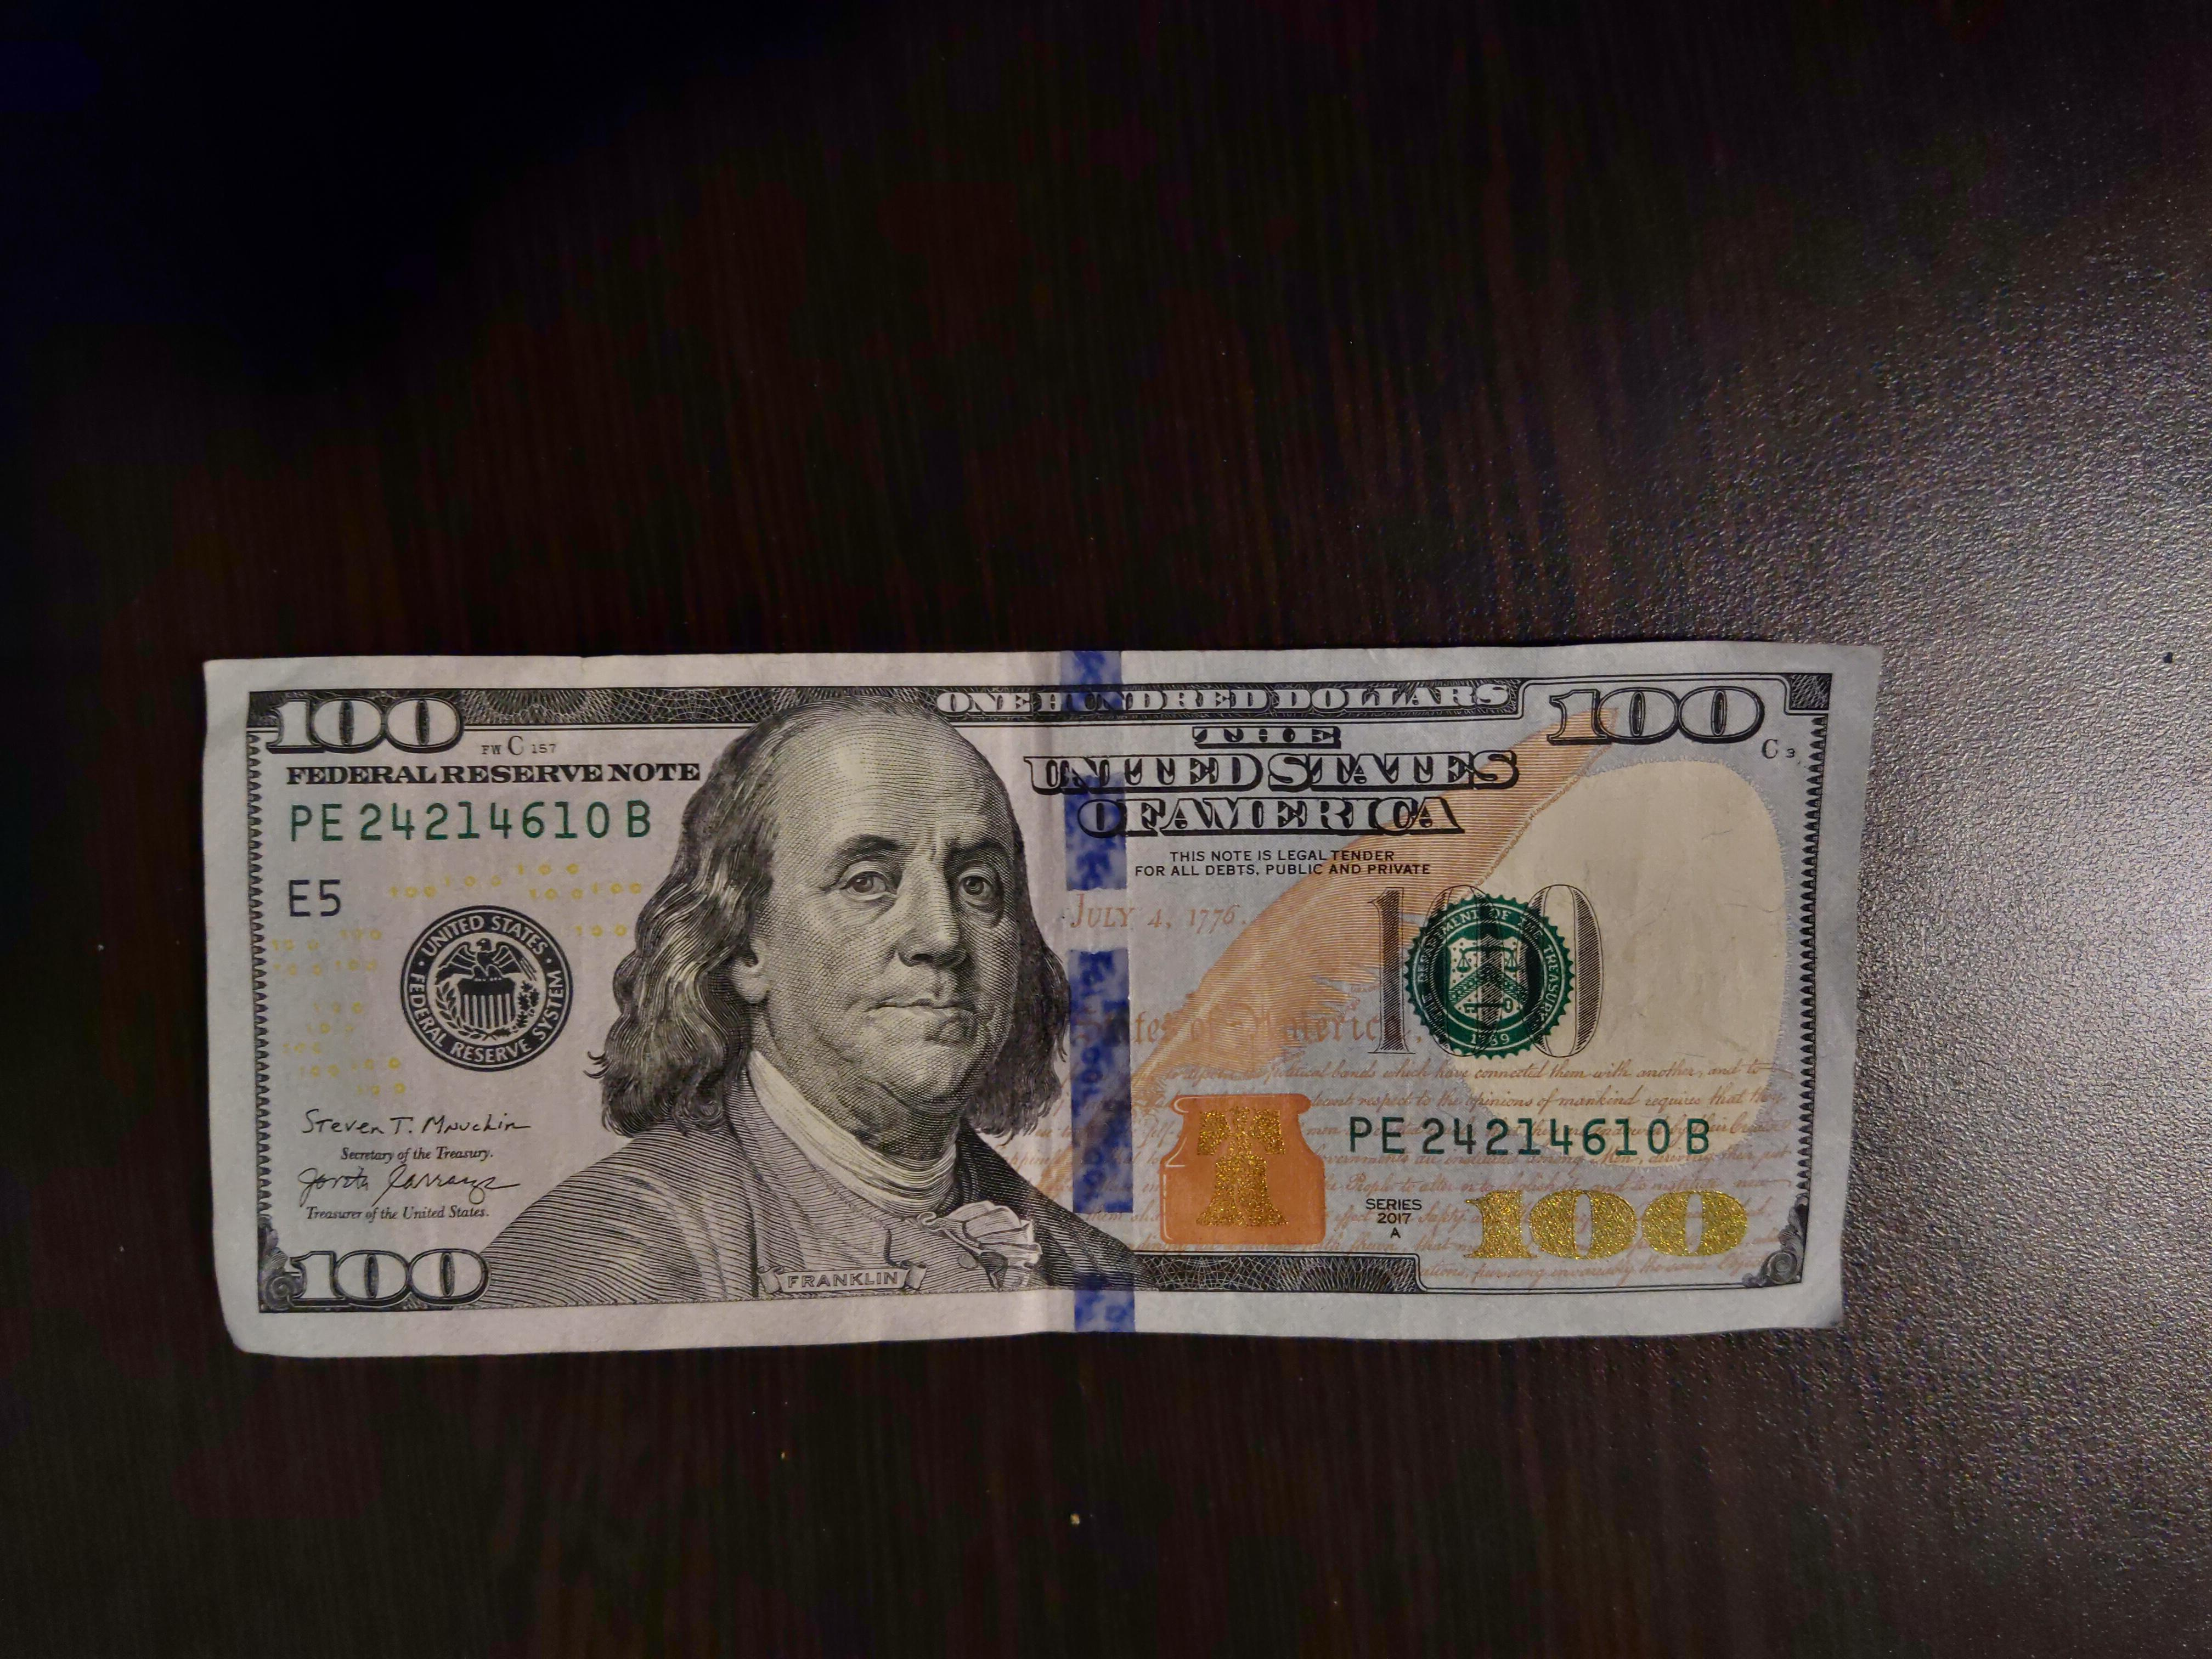HundredBill: (197, 638, 1892, 1368)
